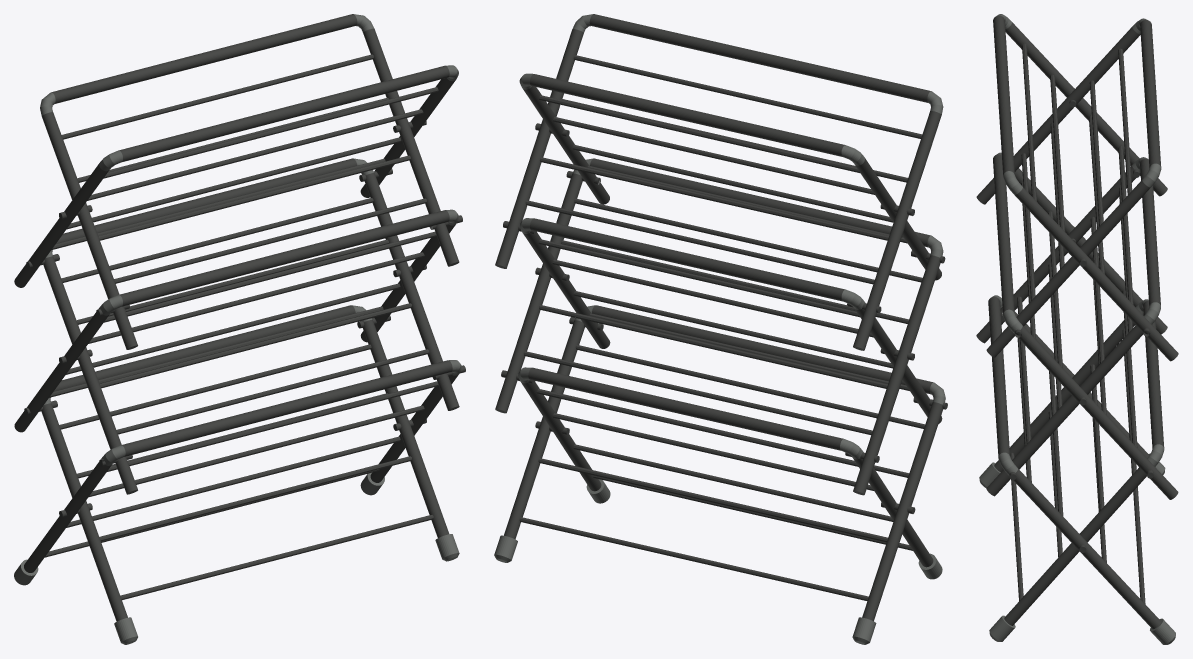
The model's file is _ryer.fbx.
3 views of the same model, side by side, from view 1: azimuth 30°, elevation 25°; view 2: azimuth 150°, elevation 25°; view 3: azimuth 270°, elevation 25° (orthographic). The views are drawn at different scales.
Parts seen in each view (by area): view 1: Cylinder.008; view 2: Cylinder.008; view 3: Cylinder.008.
Boxes of the visible parts, box(x1,y1,x2,y2) form: Cylinder.008: box(14, 14, 465, 644); Cylinder.008: box(494, 14, 947, 644); Cylinder.008: box(976, 14, 1178, 644).
Bounding box in the file's own units: 140 × 175 × 68.11.
